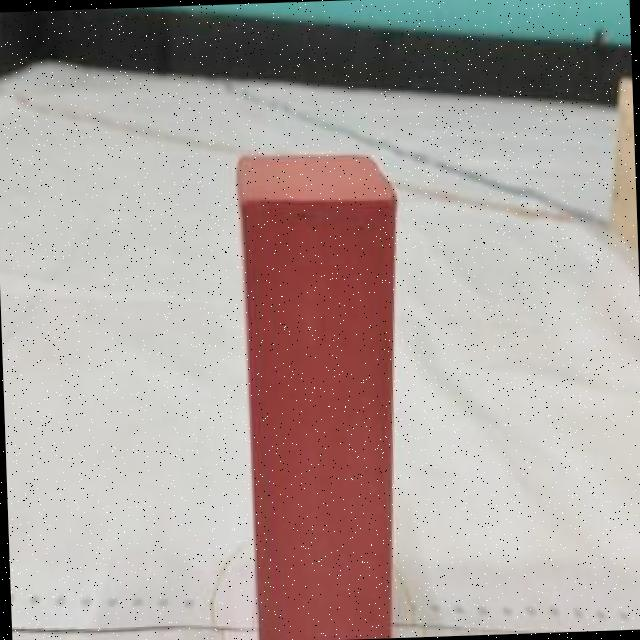redbox: (234, 145, 410, 640)
